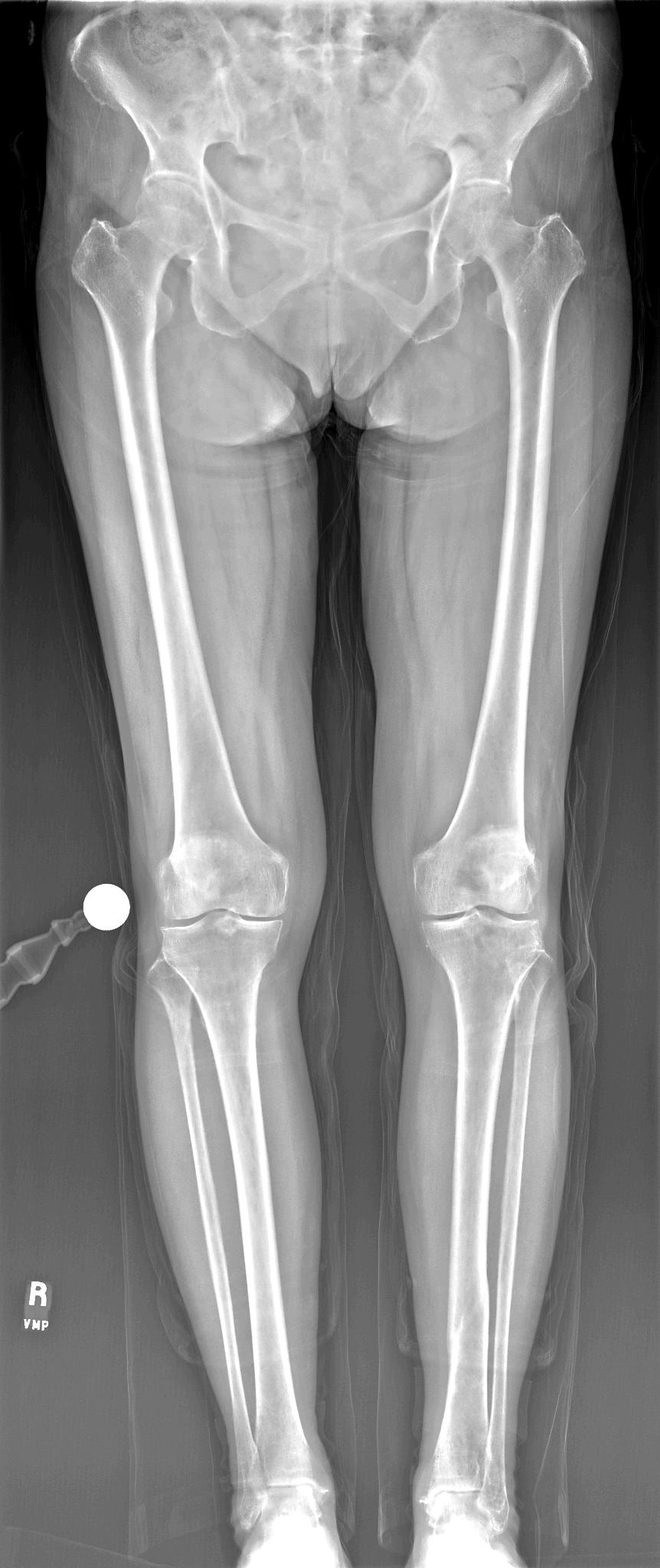Leg Fibula: (152, 960, 259, 1533), (480, 950, 555, 1530)
Leg Tibia: (159, 911, 326, 1493), (417, 913, 541, 1505)
femur: (69, 205, 288, 921), (414, 215, 585, 918)
